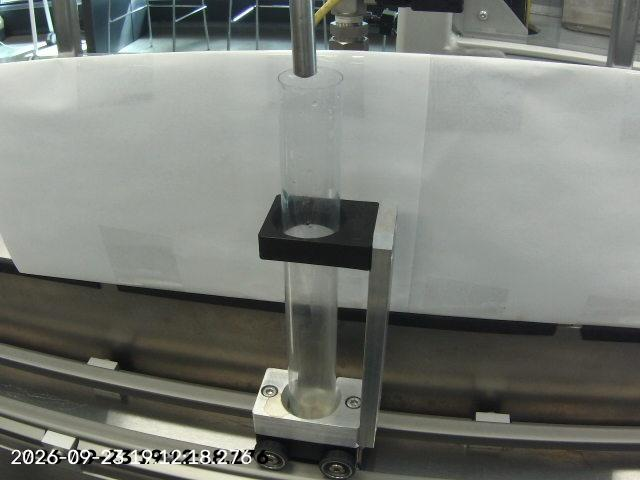vial: (275, 65, 347, 417)
